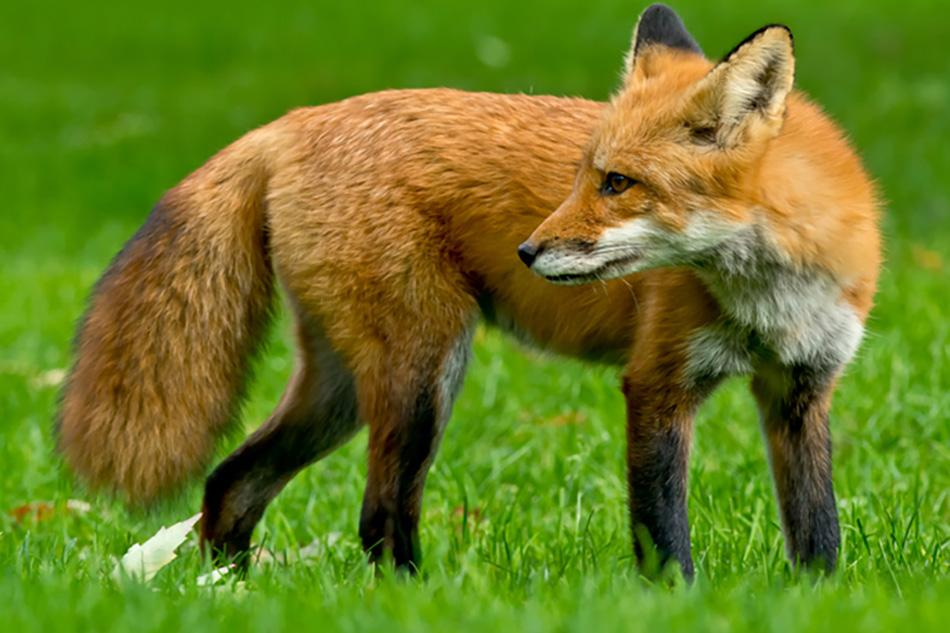fox: (71, 31, 901, 594)
